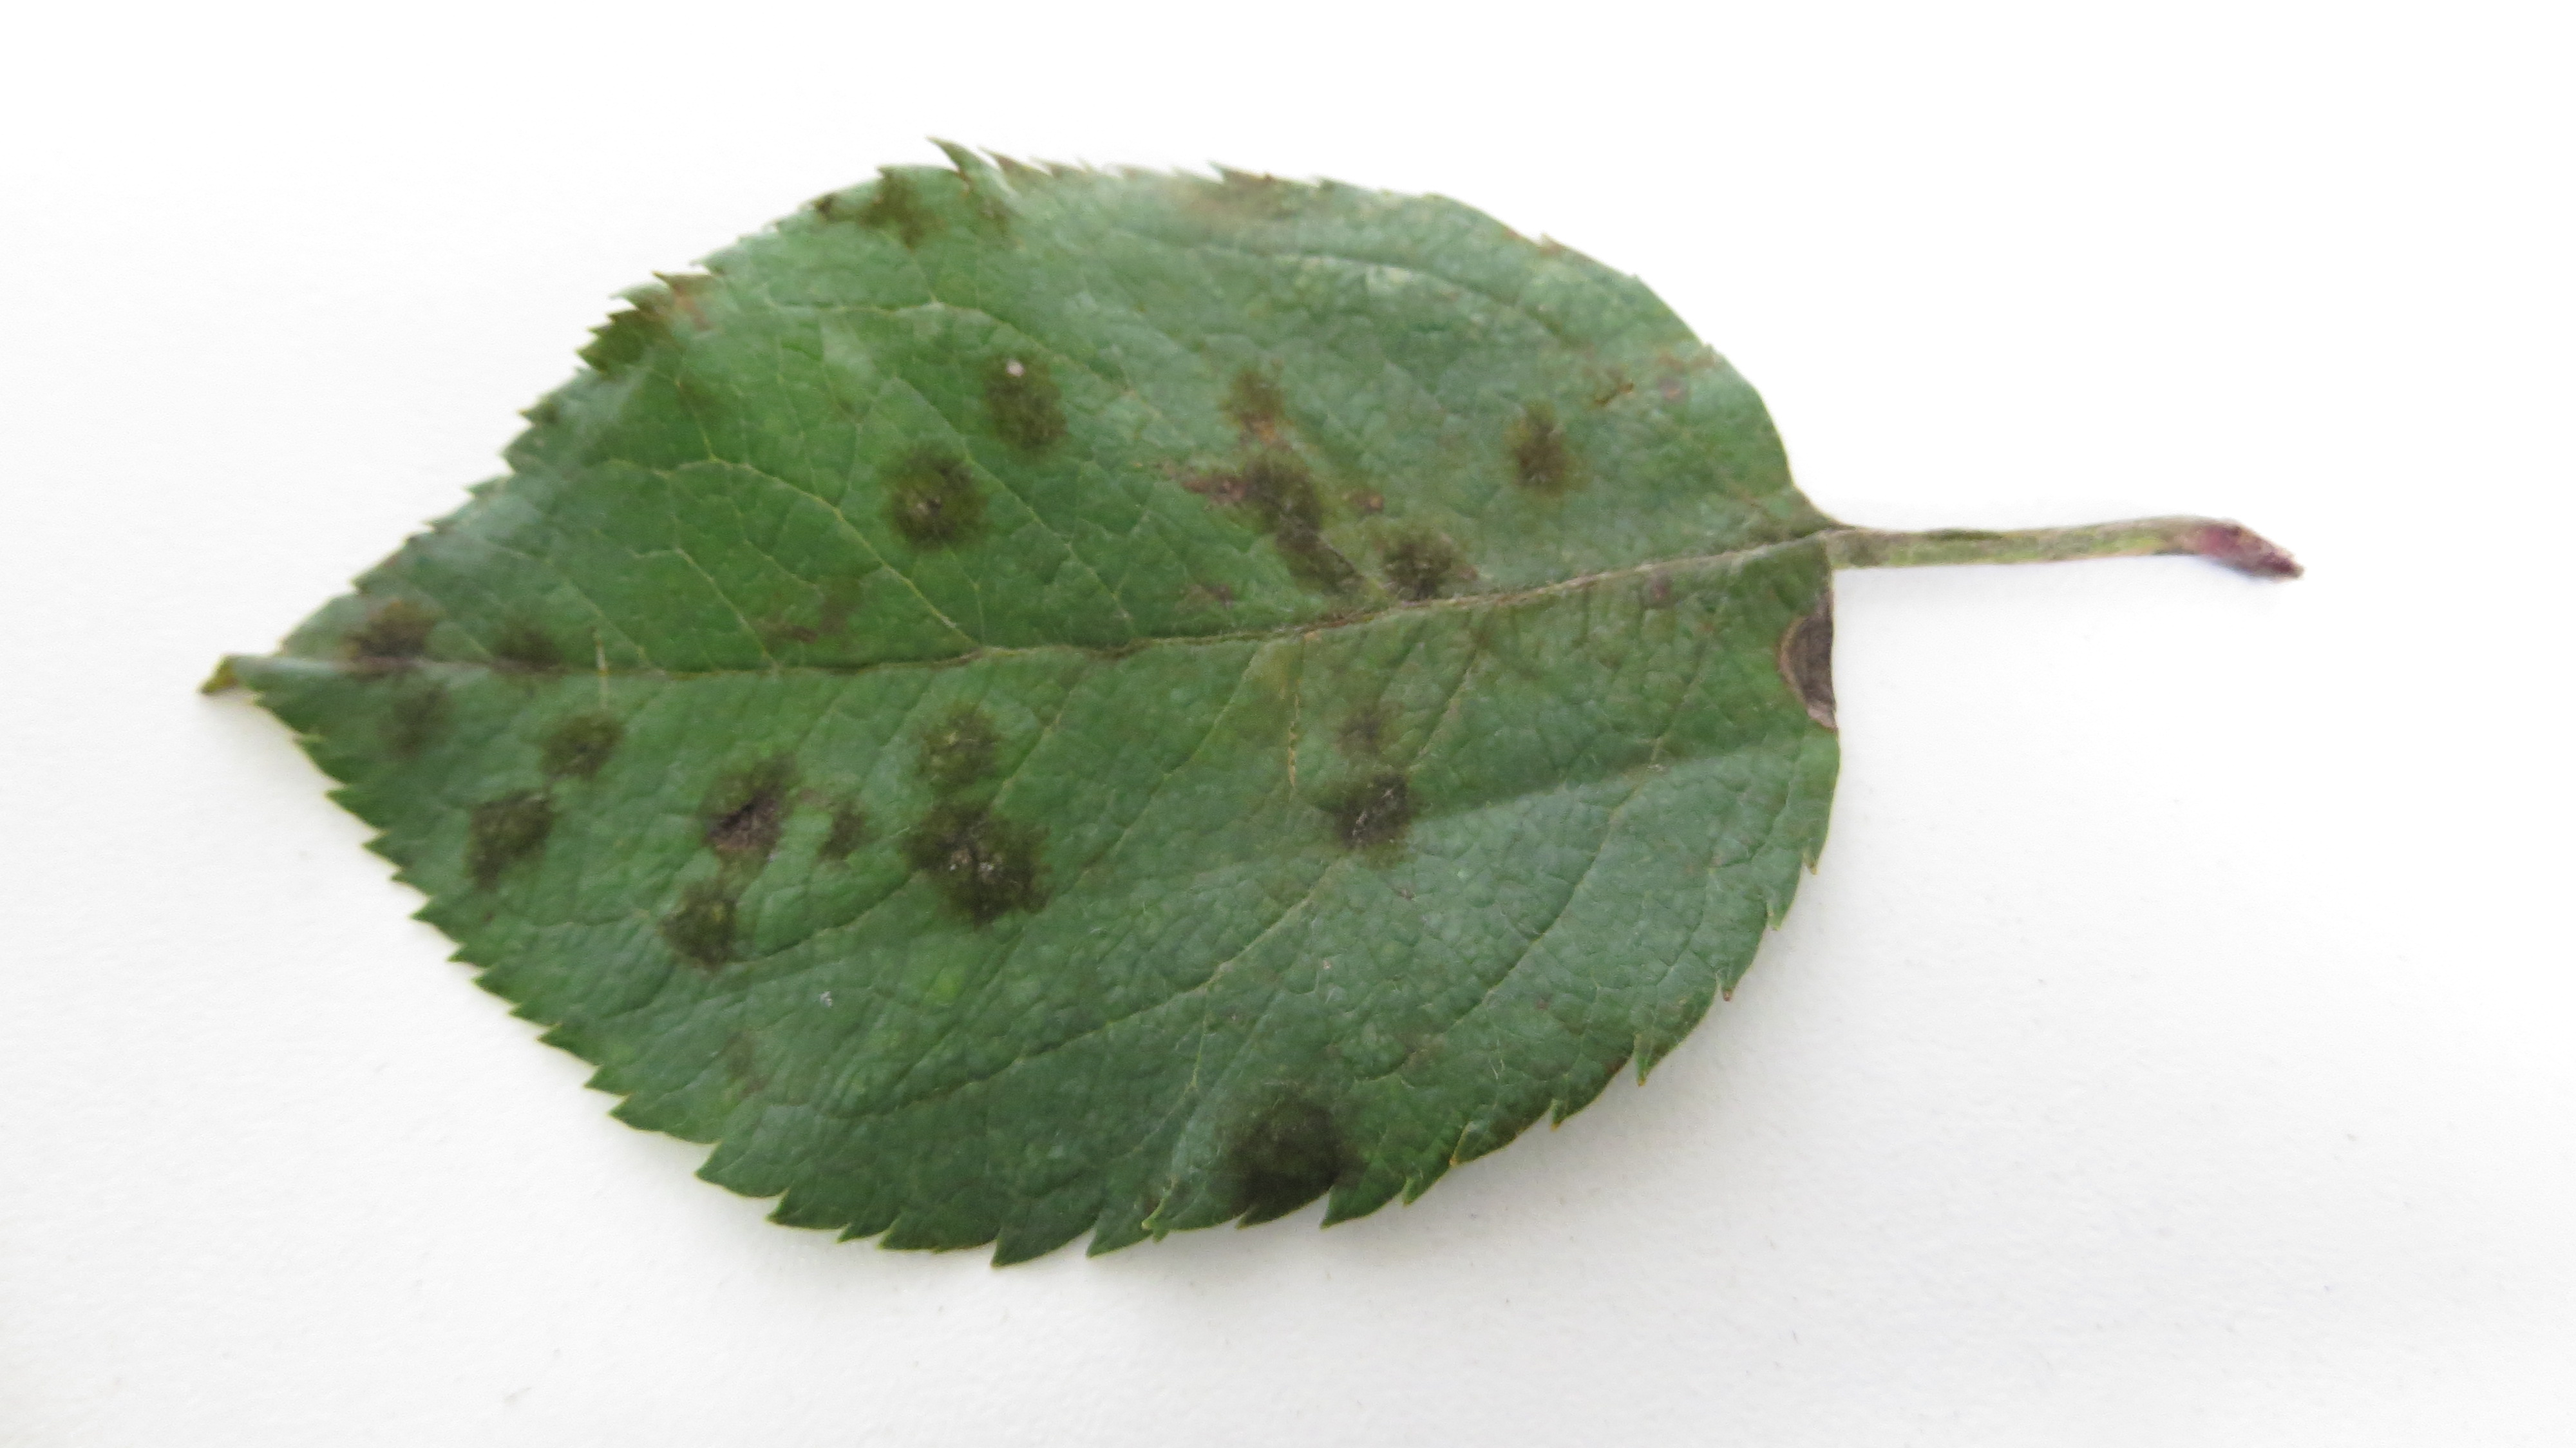sarna: (1198, 1073, 1368, 1230), (1247, 432, 1359, 611), (893, 802, 1053, 920), (686, 747, 807, 871), (1316, 766, 1437, 885), (876, 443, 998, 558), (453, 779, 568, 894), (649, 876, 763, 990), (1491, 398, 1591, 517), (1368, 519, 1484, 614), (338, 586, 444, 689), (901, 701, 1016, 791), (1168, 159, 1286, 241), (980, 350, 1074, 453), (943, 161, 1035, 264), (1769, 593, 1838, 729), (380, 678, 474, 777), (476, 604, 577, 696), (709, 1004, 775, 1124), (644, 352, 729, 444), (863, 163, 941, 262), (1210, 356, 1309, 432), (571, 301, 649, 393), (812, 791, 890, 882), (538, 710, 632, 782), (1638, 327, 1716, 411), (1336, 687, 1410, 774), (812, 538, 872, 644), (1162, 443, 1260, 506), (642, 266, 720, 343), (1576, 345, 1642, 435), (738, 602, 833, 662), (798, 184, 872, 251), (1350, 458, 1405, 531), (1633, 563, 1691, 625)
